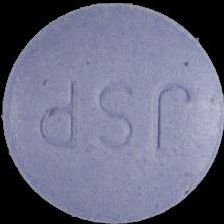21695-757: (0, 0, 224, 224)
